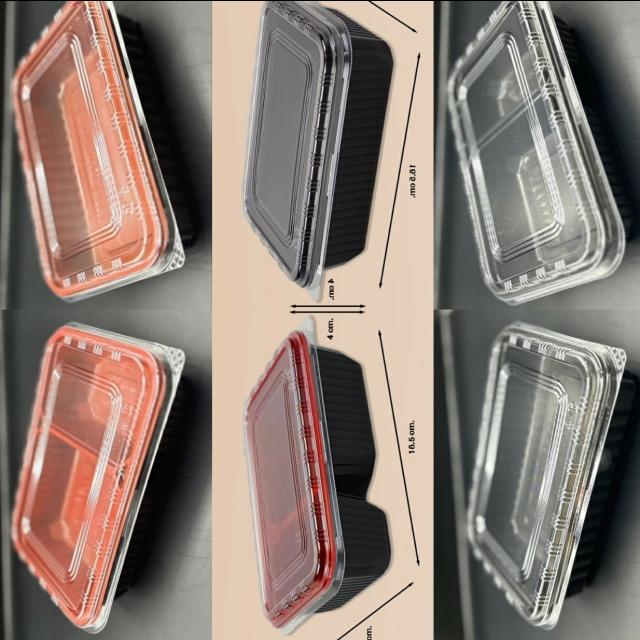plastik: (447, 0, 630, 304), (13, 0, 194, 301), (11, 322, 185, 632), (468, 322, 634, 628), (244, 321, 390, 633), (242, 0, 392, 298)
